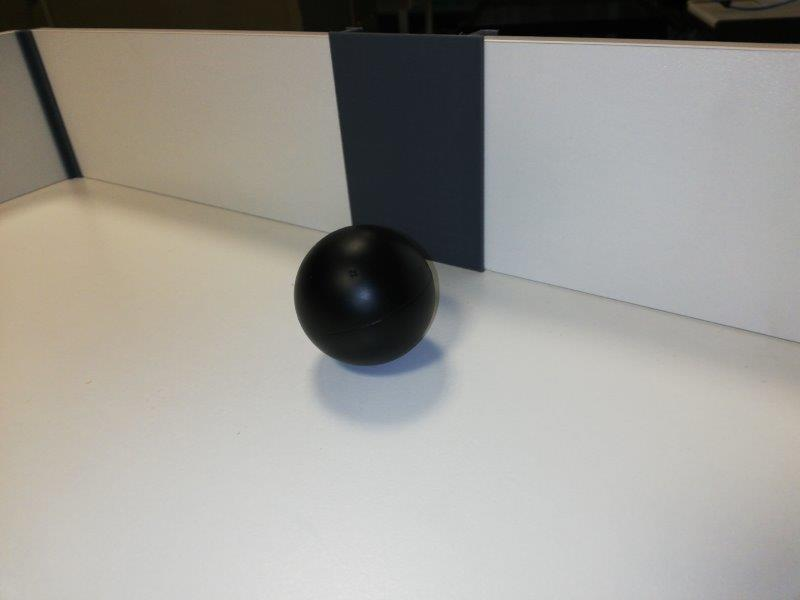nera: (292, 223, 435, 369)
